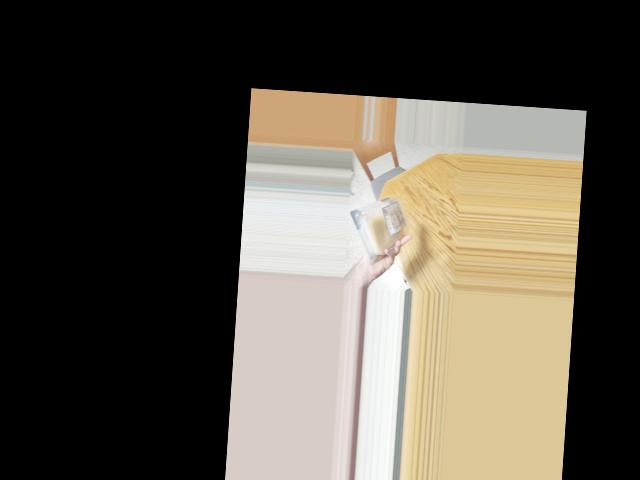cheese: (351, 193, 401, 263)
